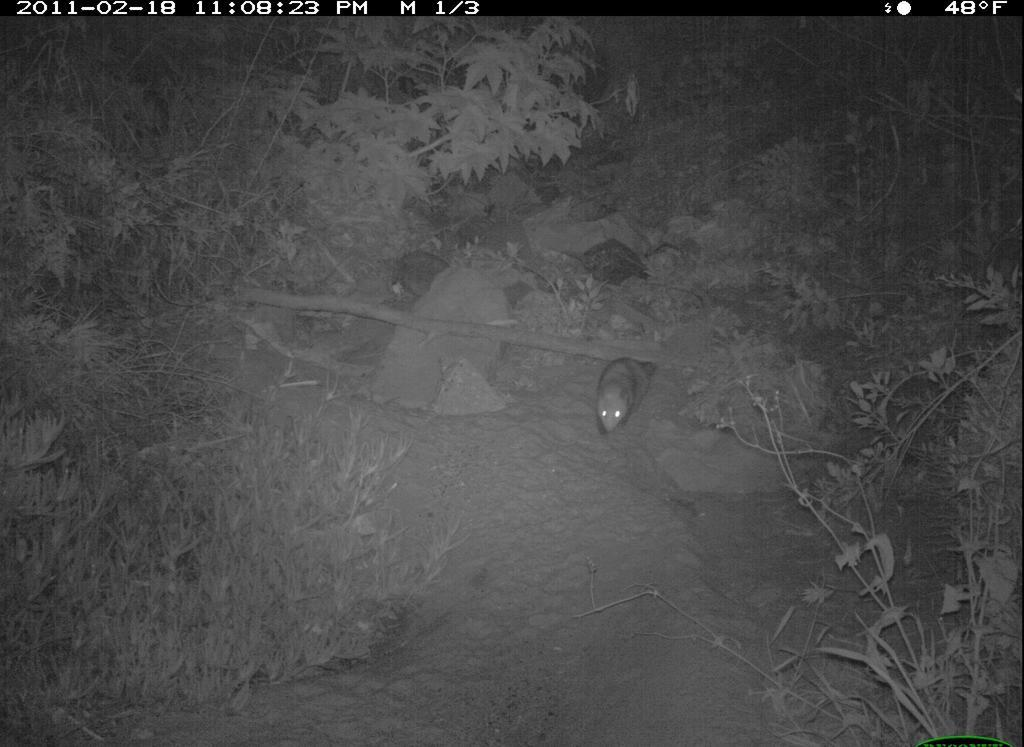opossum: (589, 351, 666, 443)
